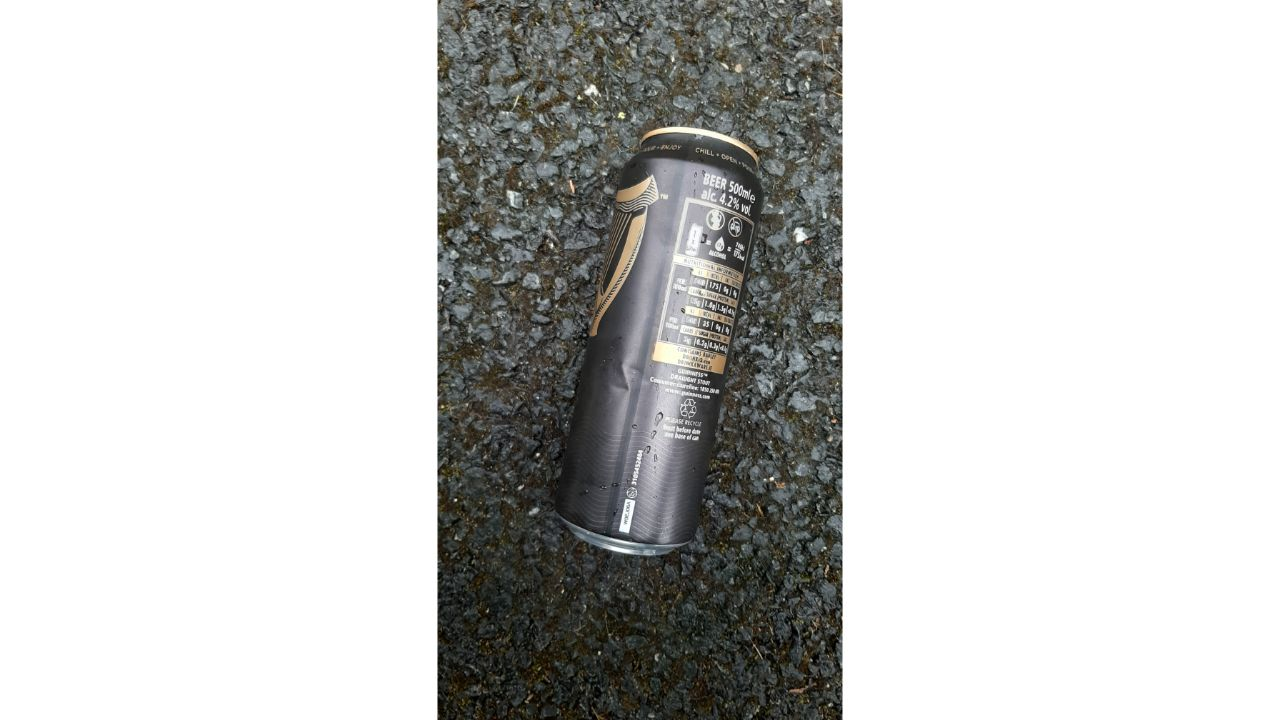Can: (540, 112, 771, 562)
